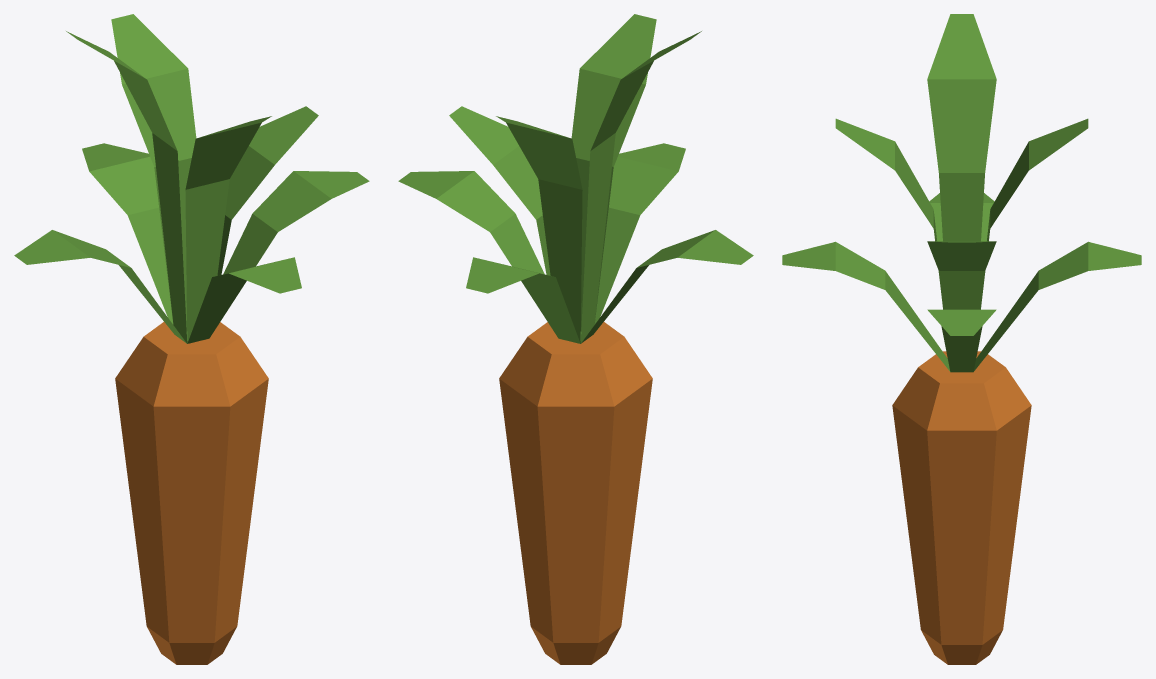
Rendered from crop_carrot.glb.
3 renders of one model, left to right at view 1: azimuth 30°, elevation 25°; view 2: azimuth 150°, elevation 25°; view 3: azimuth 270°, elevation 25°, orthographic. The views are drawn at different scales.
Parts seen in each view (by area): view 1: crop_carrot; view 2: crop_carrot; view 3: crop_carrot.
Part boxes in pixels (x1,y1,x2,y2): crop_carrot: (14, 14, 369, 664); crop_carrot: (398, 14, 753, 664); crop_carrot: (782, 14, 1141, 664).
Bounding box in the file's own units: 0.3431 × 0.6194 × 0.3431.
